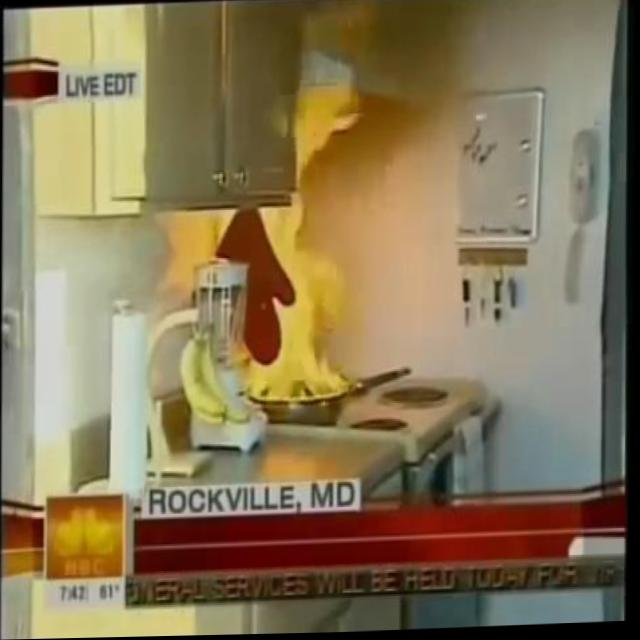fire: (208, 85, 367, 407)
